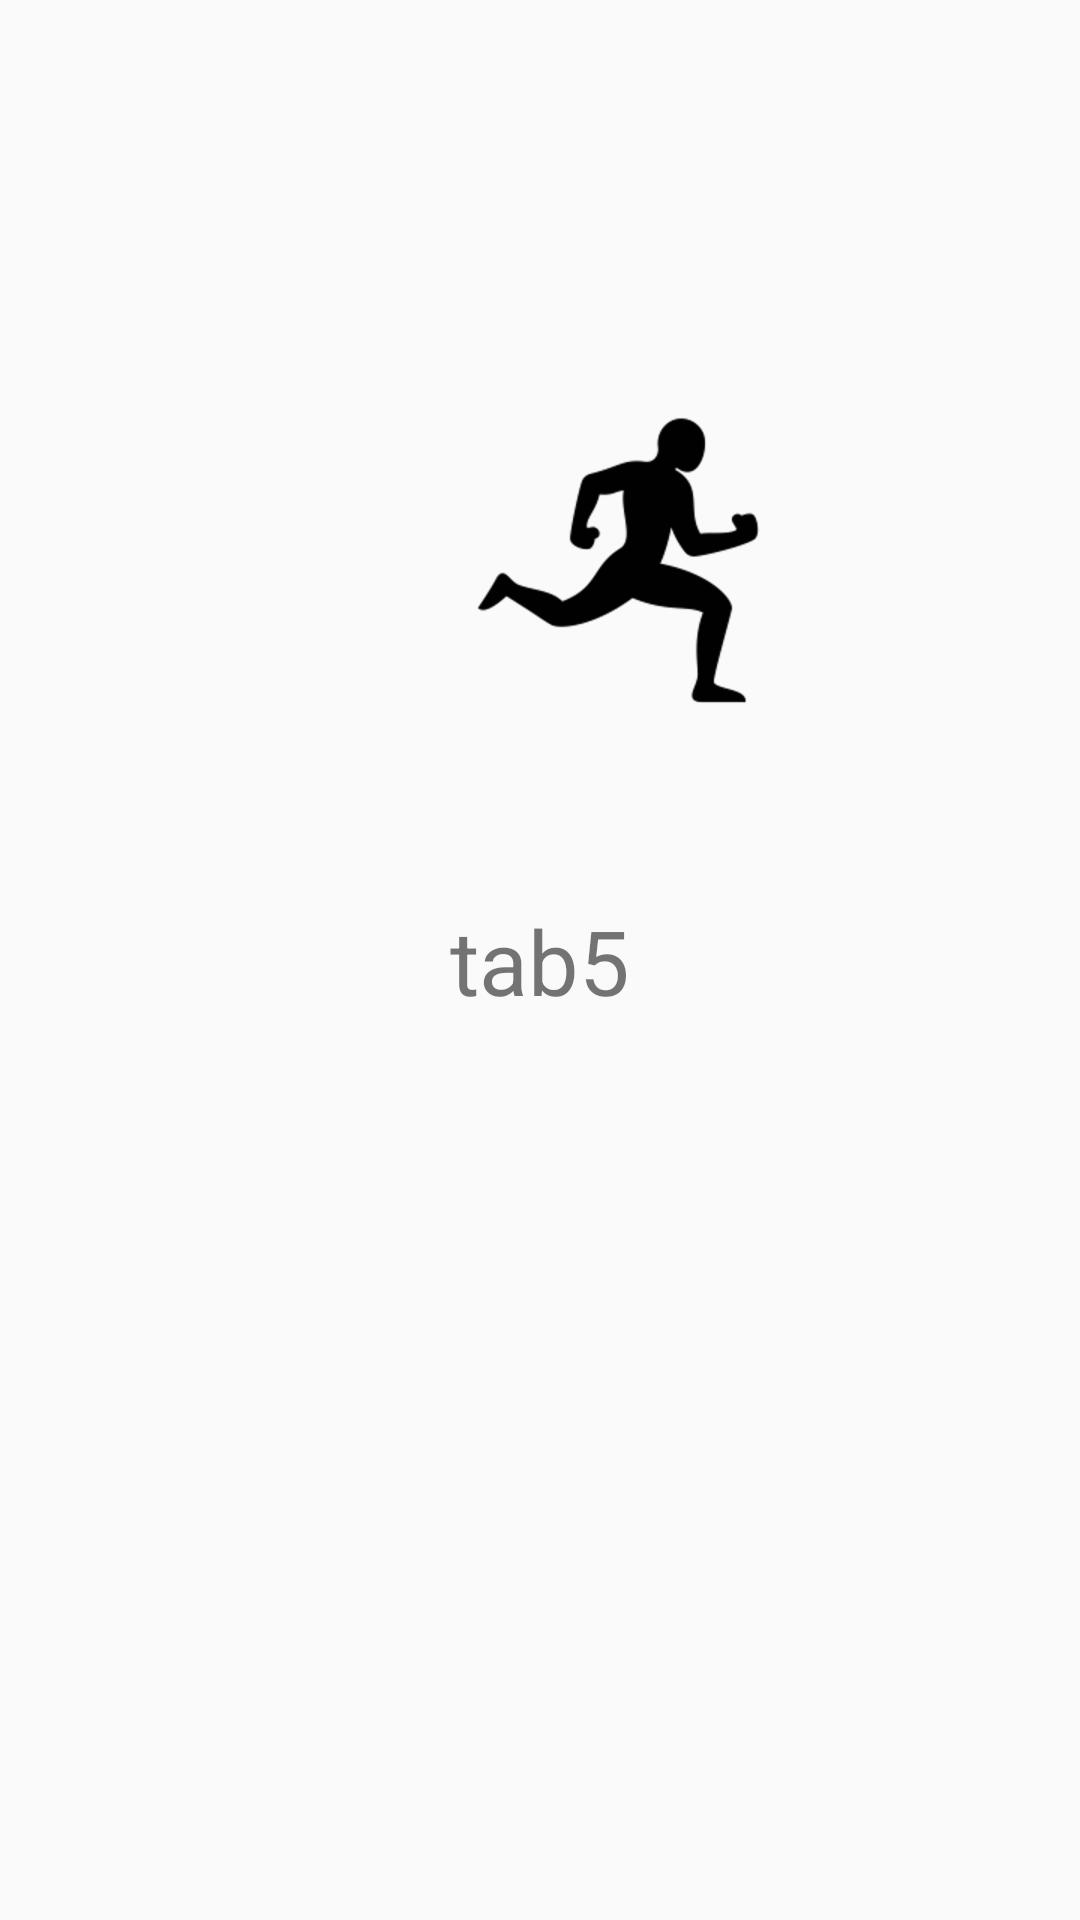

Icons on this 1080x1920 Android screen, each with its box as box(x1, y1, x2, y2):
runnning man: box(477, 418, 759, 703)
